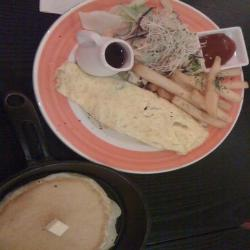fries: (140, 64, 243, 130)
ketchup: (195, 30, 238, 70)
omelette: (54, 64, 206, 163)
